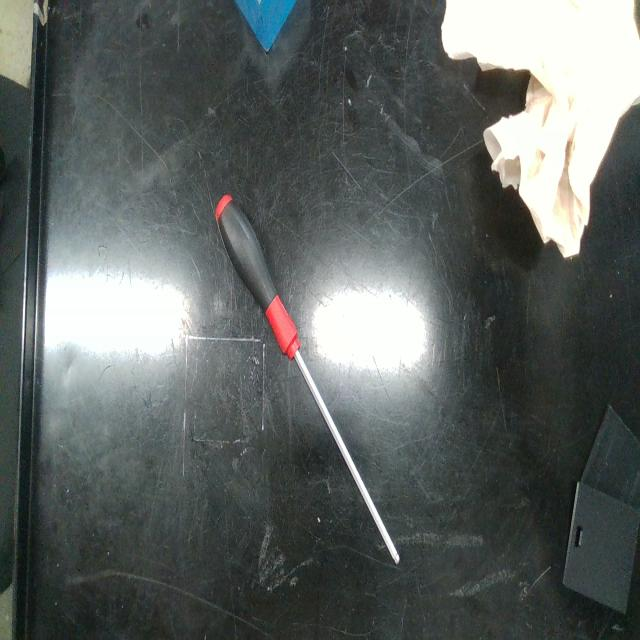Screwdriver: (215, 196, 400, 564)
